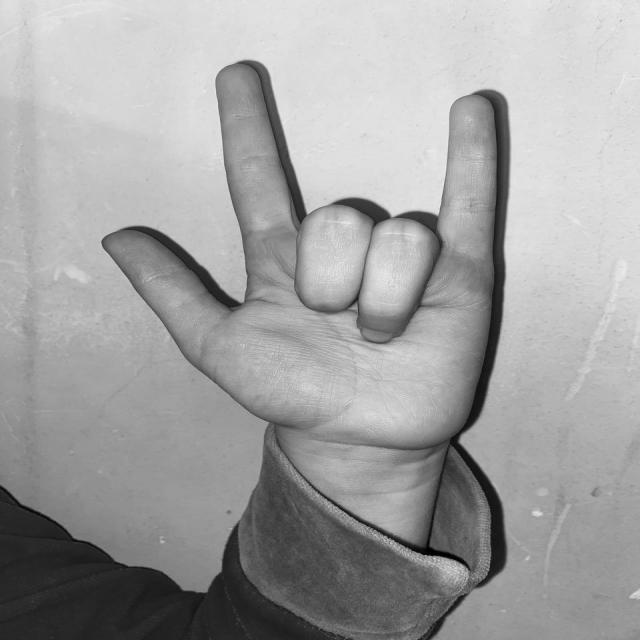i love you: (91, 51, 516, 462)
